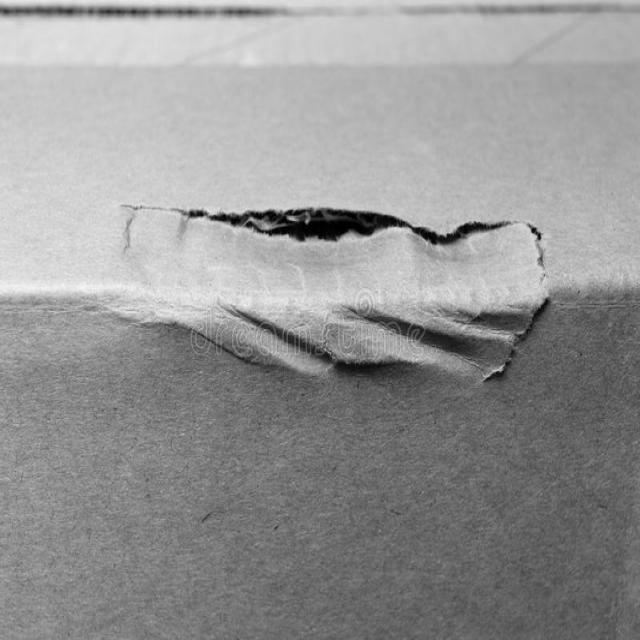hole: (116, 191, 568, 407)
